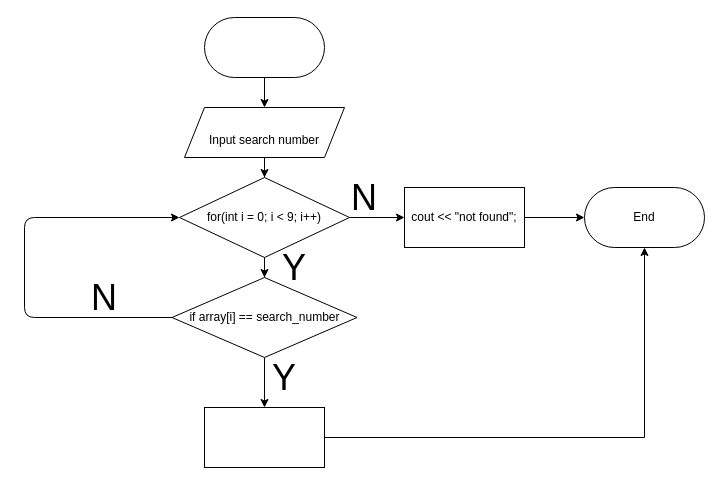
This 722x485 diagram has some shape labels left out. The centre of each missing label's shape, as x and y in pixels:
"cout << i ;" belongs at point (264, 437).
"Start" belongs at point (264, 47).
